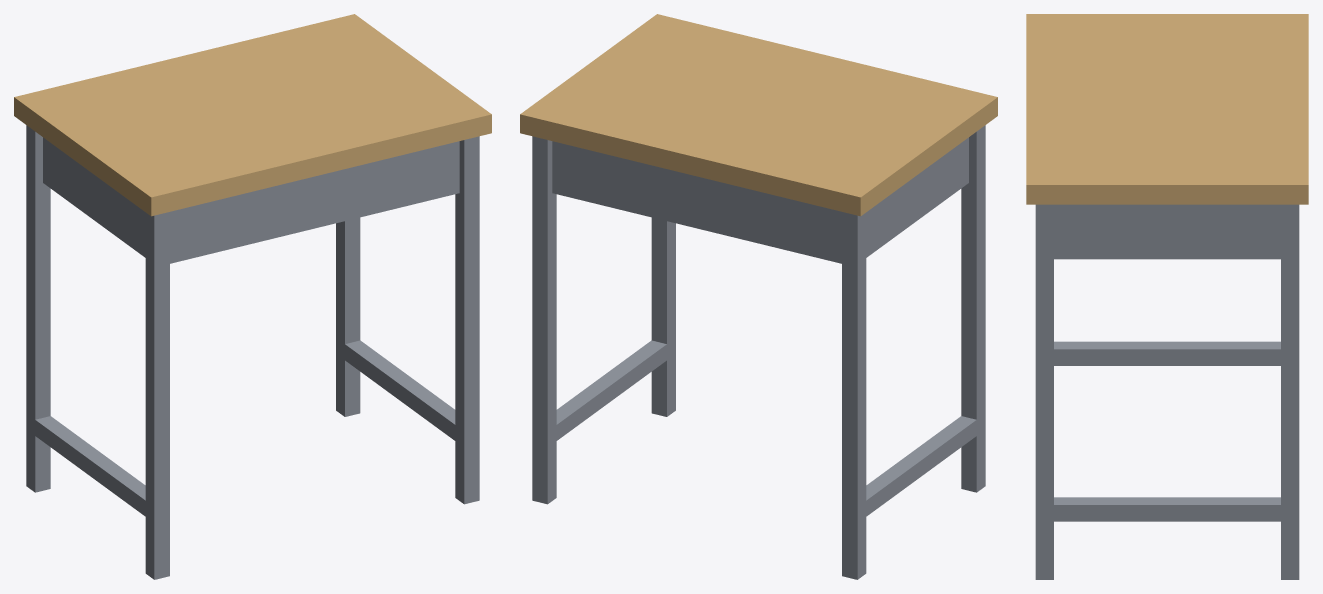
File: p_desk.glb
3 renders of one model, left to right at view 1: azimuth 30°, elevation 25°; view 2: azimuth 150°, elevation 25°; view 3: azimuth 270°, elevation 25°, orthographic. The views are drawn at different scales.
Parts seen in each view (by area): view 1: desk; view 2: desk; view 3: desk.
Boxes of the visible parts, x1,y1,x2,y2 form: desk: (14, 14, 491, 579); desk: (520, 14, 997, 579); desk: (1026, 14, 1308, 579).
Bounding box in the file's own units: 0.66 × 0.7175 × 0.46.
